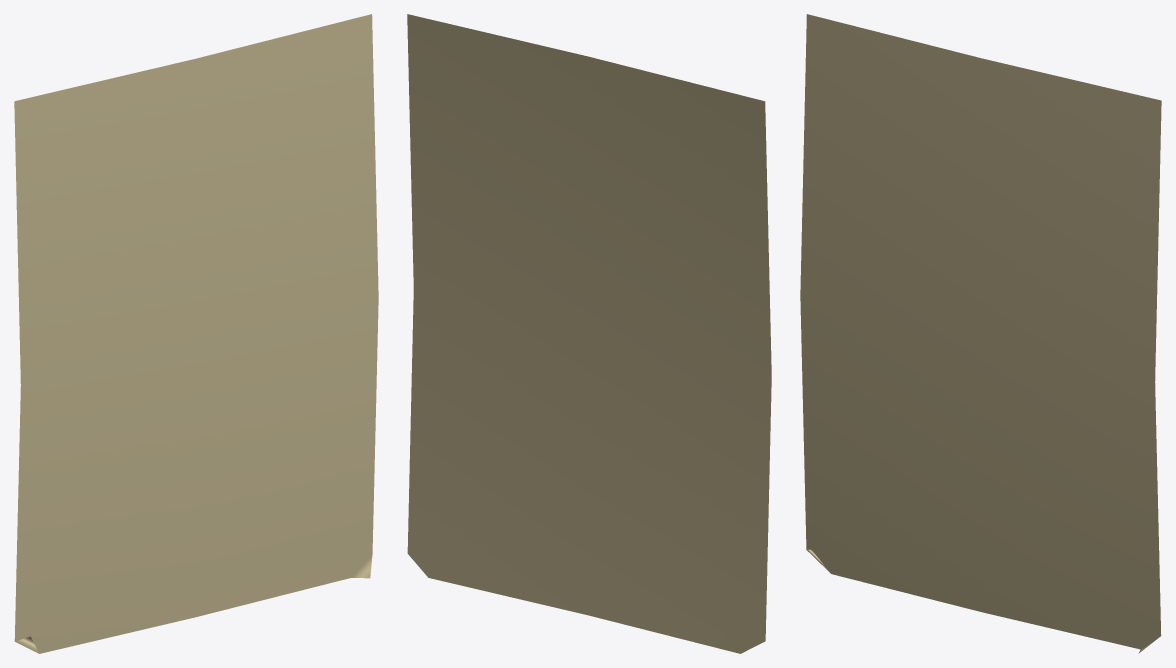
The model's file is SM_Poster_03.fbx.
The picture shows the model from 3 angles, left to right: view 1: azimuth 30°, elevation 25°; view 2: azimuth 150°, elevation 25°; view 3: azimuth 330°, elevation 25°; orthographic projection.
Parts seen in each view (by area): view 1: SM_Poster_03; view 2: SM_Poster_03; view 3: SM_Poster_03.
Boxes of the visible parts, left/top/right/bottom form: SM_Poster_03: left=14, top=14, right=378, bottom=653; SM_Poster_03: left=407, top=14, right=771, bottom=653; SM_Poster_03: left=800, top=14, right=1161, bottom=653.
Size of the model in its own units: 61 by 91 by 3.19.
